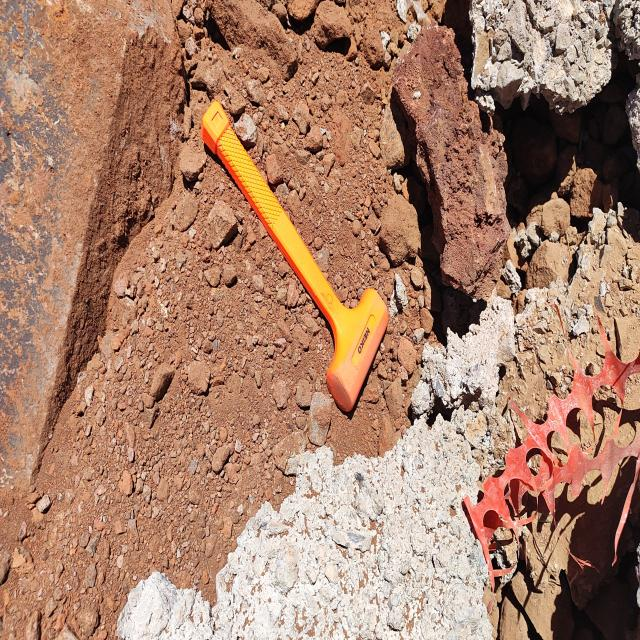Orange_hammer: (200, 98, 389, 414)
